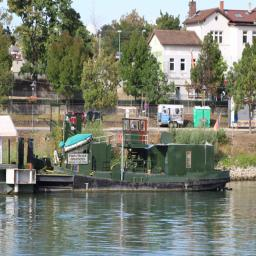tugboat: (18, 106, 234, 197)
